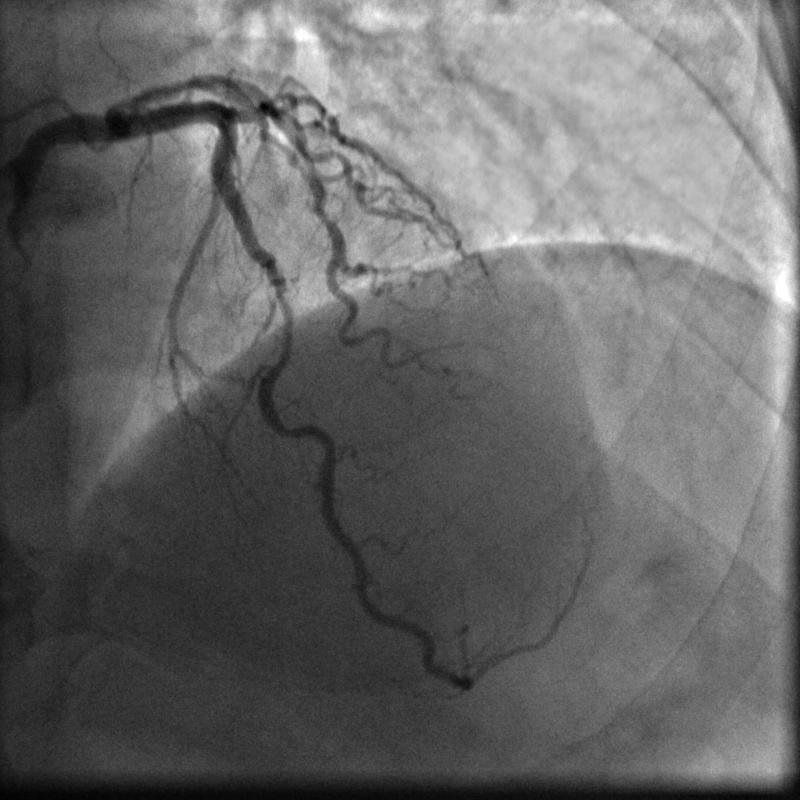Stenosis: (261, 274, 295, 364)
